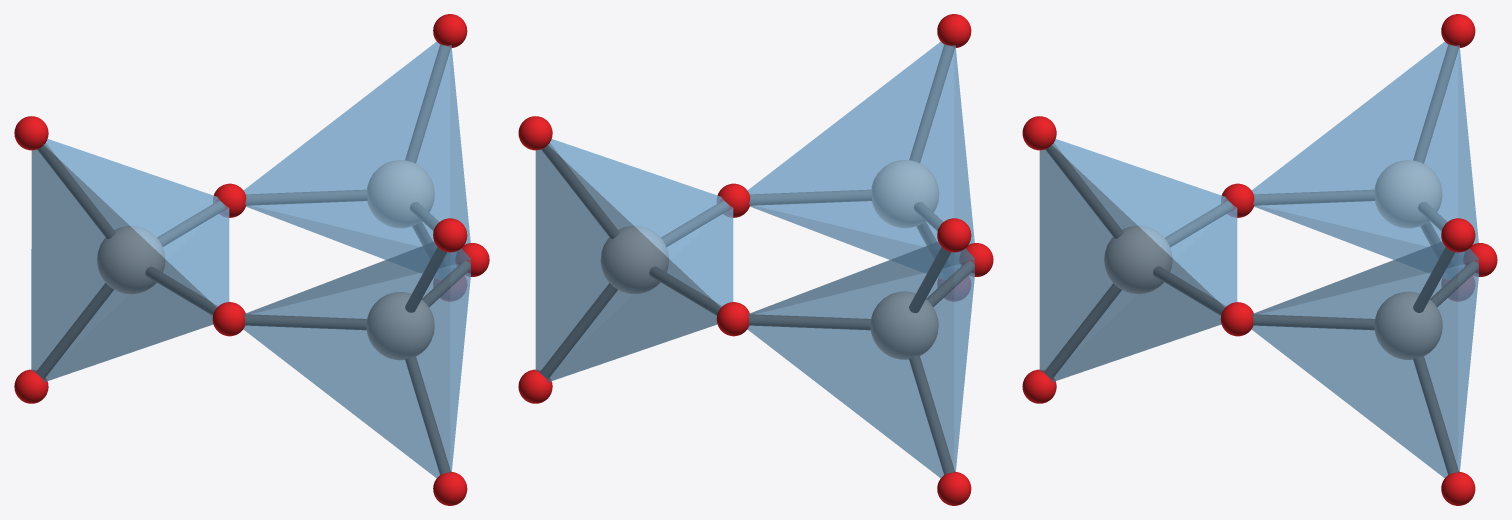
The model's file is s137 křemičitany.glb.
The picture shows the model from 3 angles, left to right: view 1: azimuth 30°, elevation 25°; view 2: azimuth 150°, elevation 25°; view 3: azimuth 270°, elevation 25°; orthographic projection.
Parts seen in each view (by area): view 1: Cone.001, BezierCurve.008, Sphere.005, Sphere.004, Sphere.003, Sphere.006, Sphere.011, Sphere.010, Sphere, Sphere.008, Sphere.007, Sphere.002 (+1 smaller); view 2: Cone.001, BezierCurve.008, Sphere.004, Sphere.003, Sphere.005, Sphere.006, Sphere.008, Sphere.007, Sphere.011, Sphere.002, Sphere.009, Sphere.001 (+1 smaller); view 3: Cone.001, BezierCurve.008, Sphere.005, Sphere.004, Sphere.003, Sphere.008, Sphere.011, Sphere.009, Sphere.001, Sphere.006, Sphere.010, Sphere (+1 smaller).
Boxes of the visible parts, box(x1,y1,x2,y2) form: Cone.001: box(31, 41, 470, 478); BezierCurve.008: box(36, 44, 470, 474); Sphere.005: box(366, 292, 434, 360); Sphere.004: box(367, 160, 434, 228); Sphere.003: box(97, 226, 165, 294); Sphere.006: box(14, 116, 48, 150); Sphere.011: box(433, 218, 467, 252); Sphere.010: box(433, 471, 467, 505); Sphere: box(212, 302, 245, 336); Sphere.008: box(433, 14, 467, 47); Sphere.007: box(14, 369, 48, 403); Sphere.002: box(213, 183, 246, 217); Cone.001: box(535, 41, 974, 478); BezierCurve.008: box(540, 44, 974, 474); Sphere.004: box(600, 225, 668, 293); Sphere.003: box(870, 291, 938, 359); Sphere.005: box(871, 160, 939, 228); Sphere.006: box(937, 218, 971, 252); Sphere.008: box(518, 116, 552, 150); Sphere.007: box(937, 472, 971, 505); Sphere.011: box(937, 14, 971, 47); Sphere.002: box(716, 302, 749, 336); Sphere.009: box(518, 369, 552, 403); Sphere.001: box(717, 183, 750, 217); Cone.001: box(1039, 41, 1478, 478); BezierCurve.008: box(1044, 45, 1478, 474); Sphere.005: box(1104, 225, 1172, 293); Sphere.004: box(1374, 291, 1442, 359); Sphere.003: box(1374, 160, 1442, 228); Sphere.008: box(1441, 218, 1475, 252); Sphere.011: box(1022, 116, 1056, 150); Sphere.009: box(1441, 471, 1475, 505); Sphere.001: box(1220, 302, 1253, 336); Sphere.006: box(1441, 14, 1475, 47); Sphere.010: box(1022, 369, 1056, 403); Sphere: box(1221, 183, 1254, 217).
Size of the model in its own units: 9.07 by 5.5 by 8.32.
